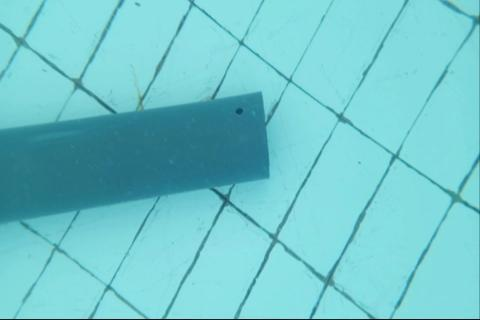kebocoran: (234, 106, 244, 115)
